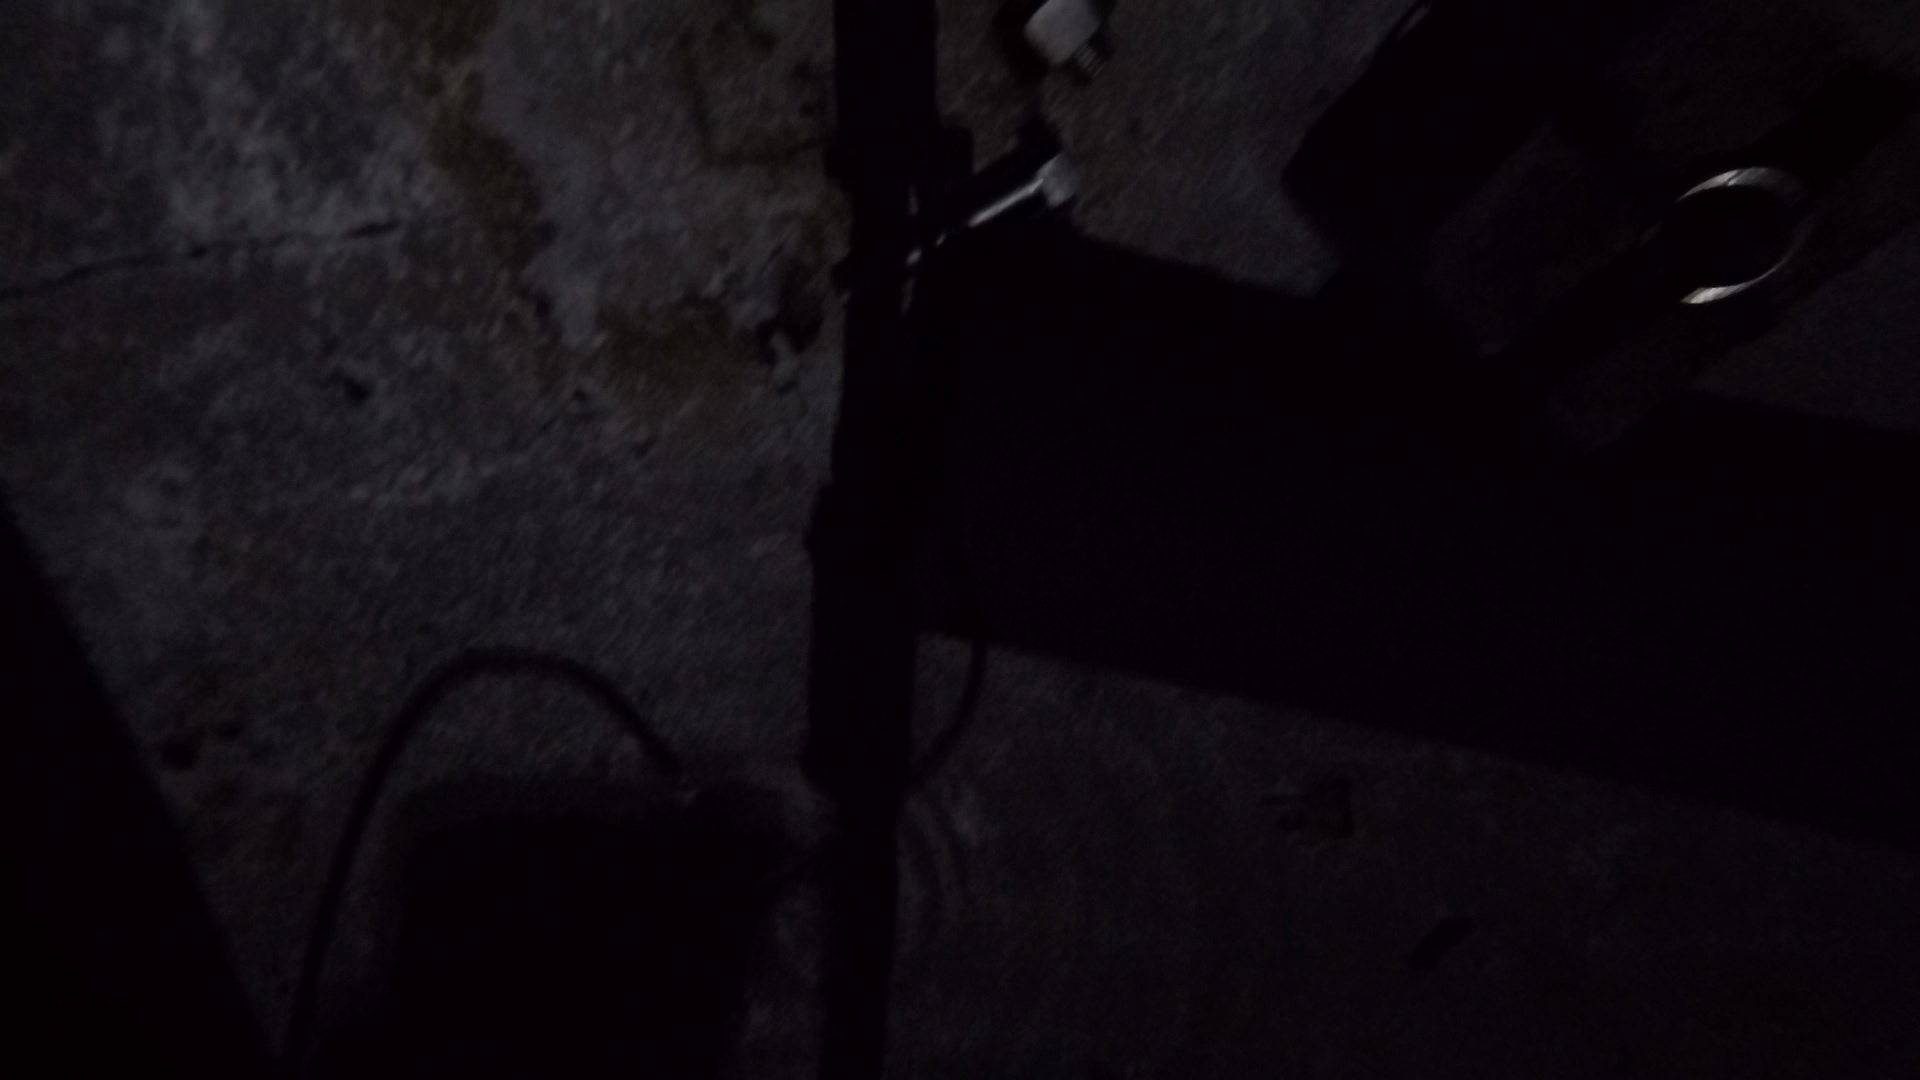bolt: (833, 123, 1083, 295), (1072, 42, 1109, 83)
nut: (1011, 1, 1106, 73)
